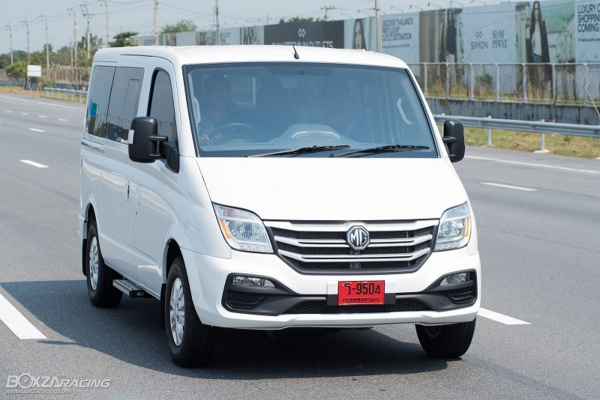van: (76, 42, 485, 367)
